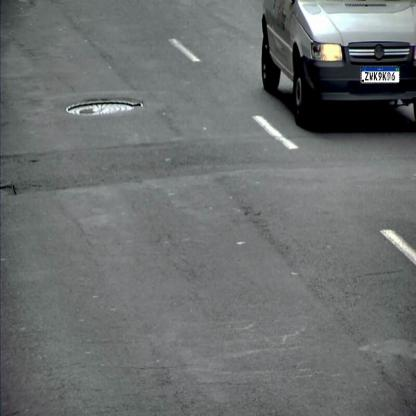PlacaM: (361, 67, 400, 83)
